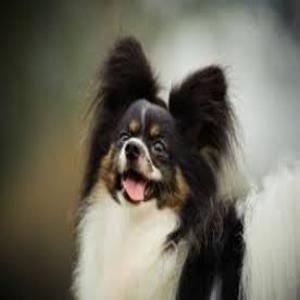yell: (72, 35, 300, 300)
